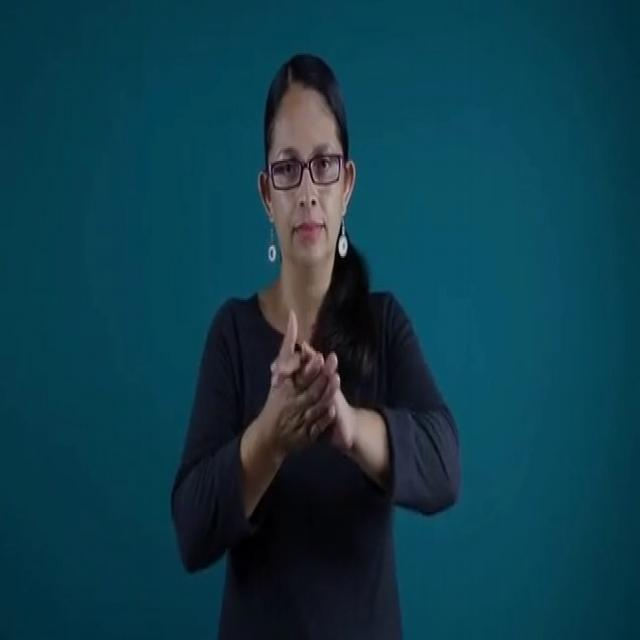burger: (246, 292, 368, 509)
